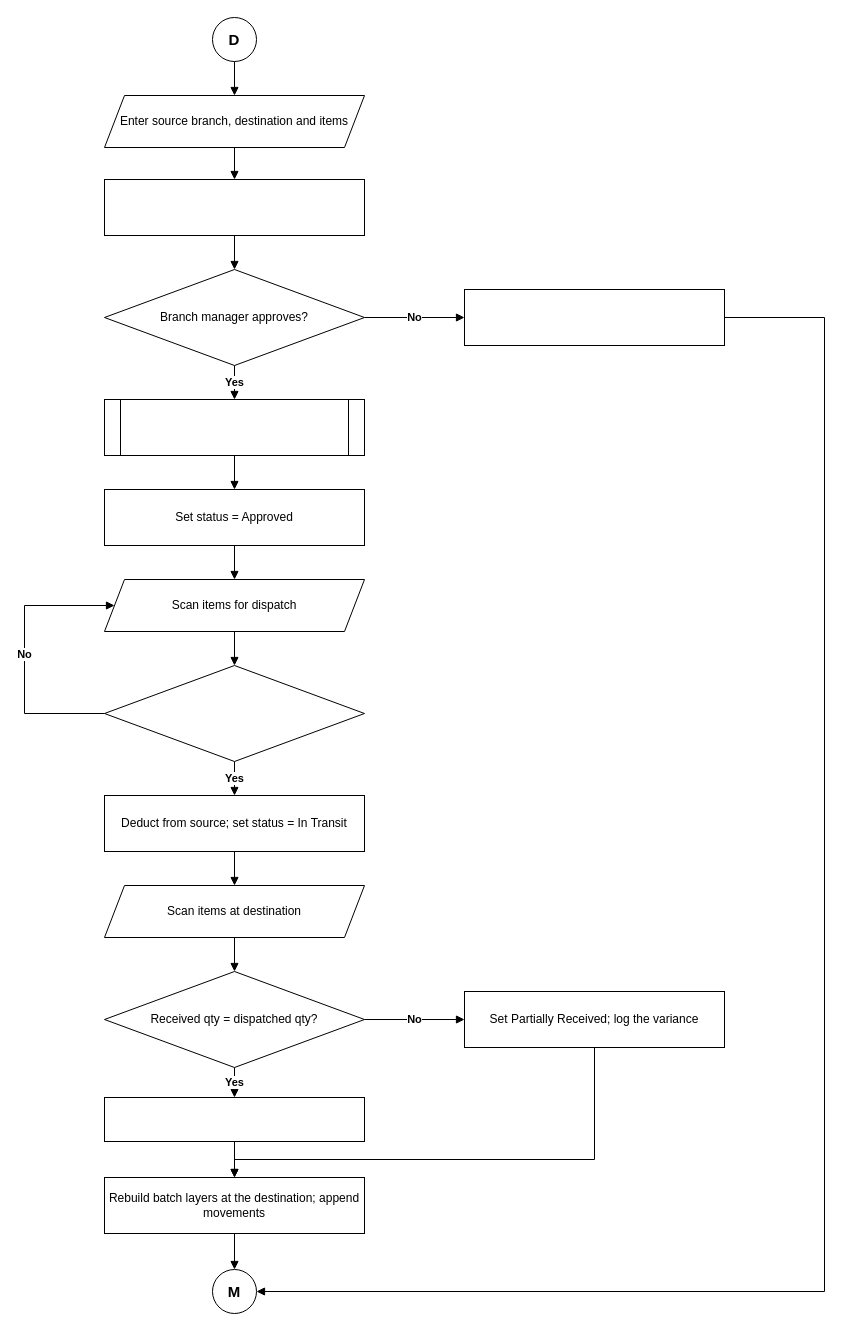
Some shapes in this 850 by 1331 pixel diagram are drawn without their labels. The centre of each missing label's shape, as x and y in pixels:
"All pick-list items scanned?" goes at (x=234, y=713).
"FifoPickingService: build the pick list" goes at (x=234, y=427).
"Save transfer - status = Pending" goes at (x=234, y=207).
"Set status = Received" goes at (x=234, y=1119).
"Set status = Rejected" goes at (x=594, y=317).
